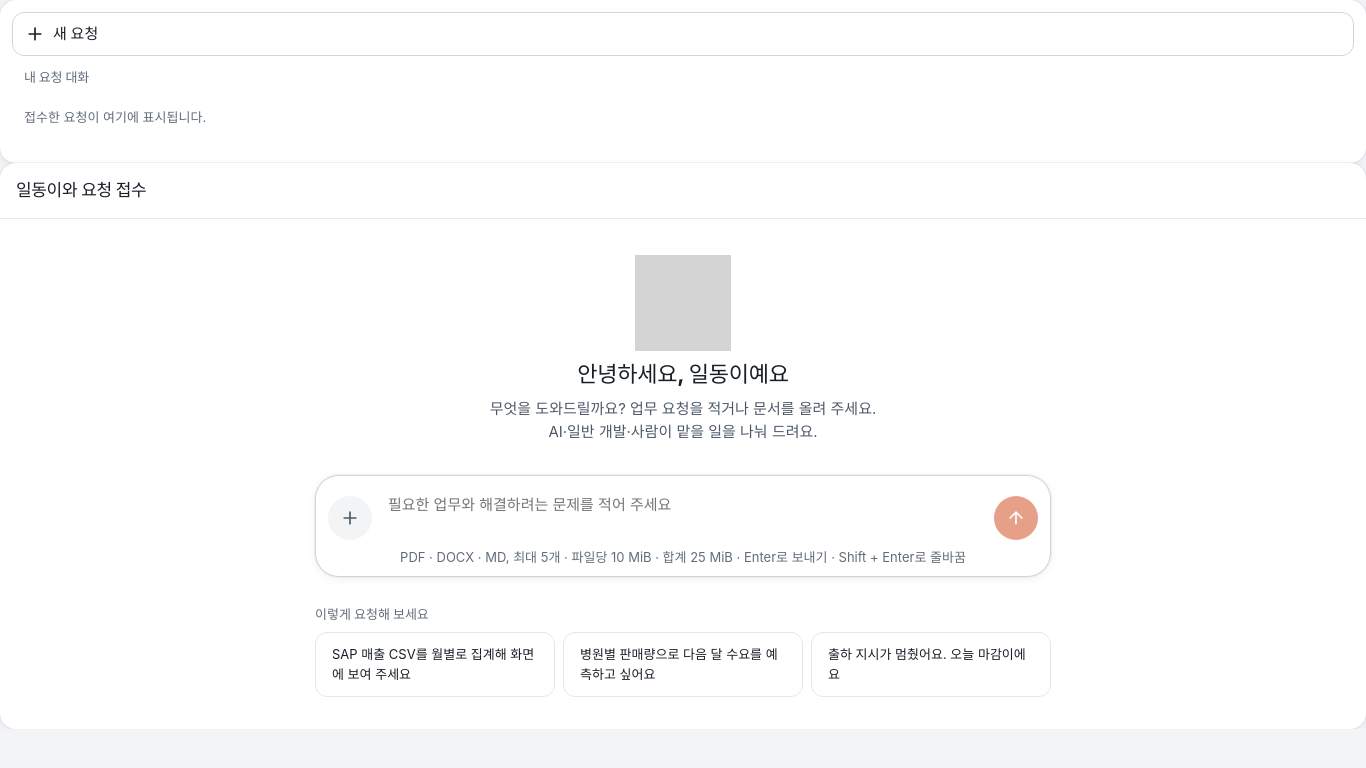
Test: optimistic request card › shows the sent request as a right-hand bubble immediately, before the server answers
The image size is (1366, 768).
Type "챗봇을 도입하고 싶습니다" into the text box named "요청 내용".
click(683, 512); type("챗봇을 도입하고 싶습니다")  # box [380,484,986,540]
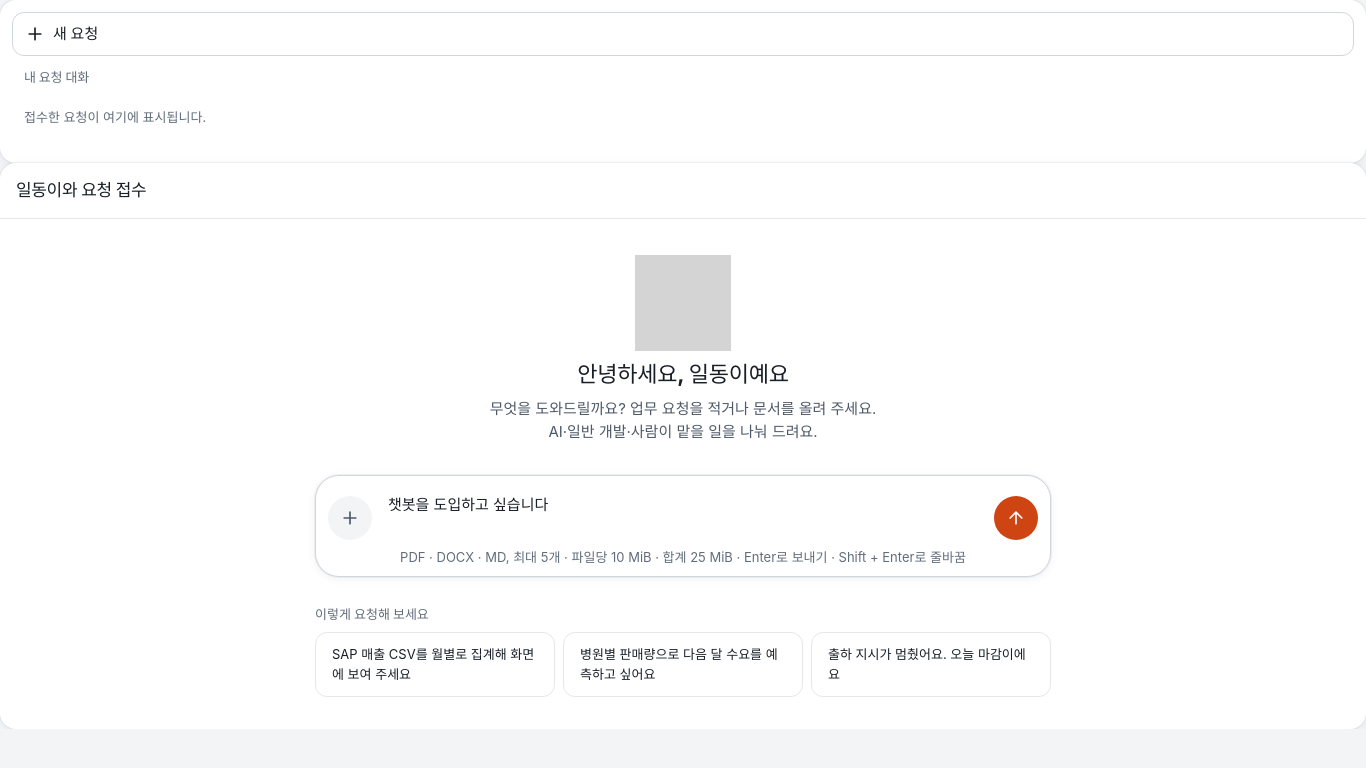
Click the button named "요청 보내기".
click(1016, 518)  # box [994,496,1038,540]
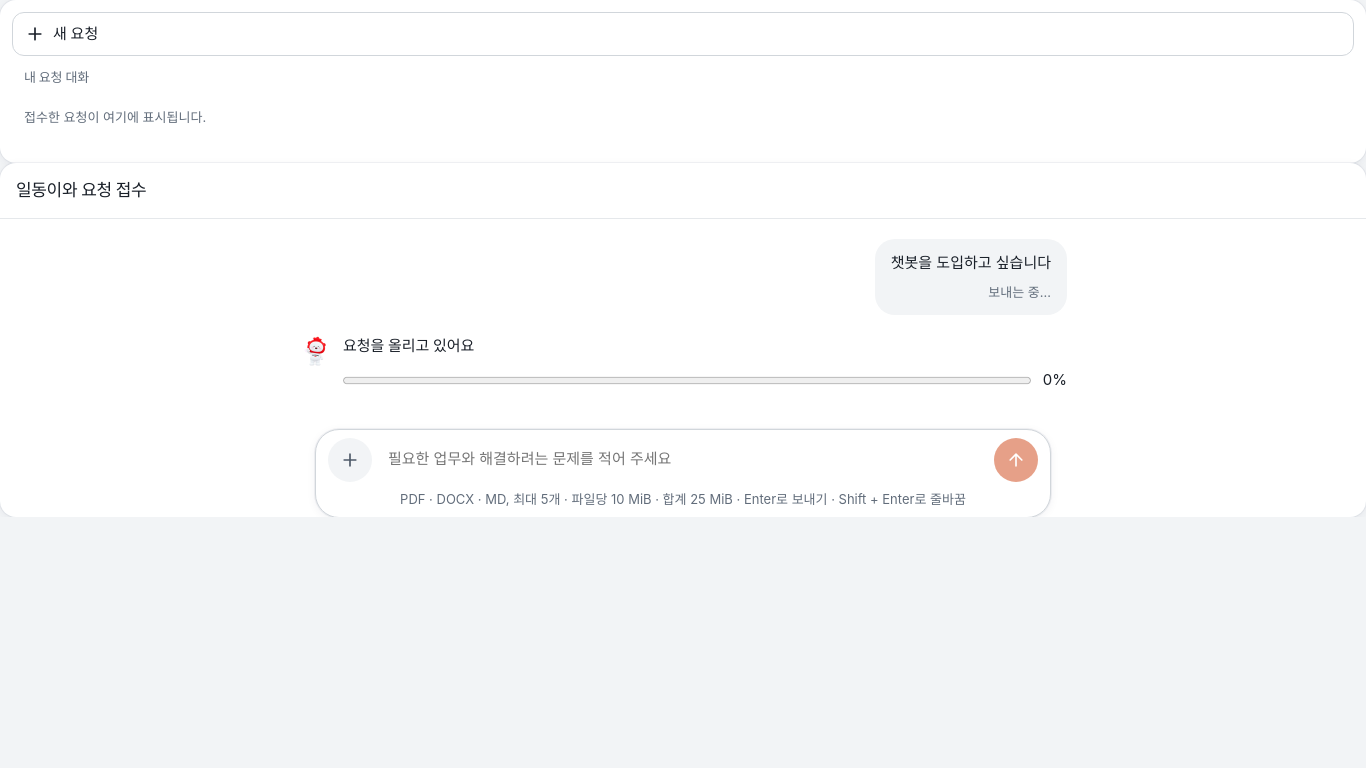
Check: the element named "내가 보낸 요청" shows "챗봇을 도입하고 싶습니다", box [891,253,1051,272]
Check: the element named "내가 보낸 요청" shows "보내는 중", box [988,284,1051,300]
Check: the progress indicator named "업로드 진행률" is shown, box [343,373,1031,388]
